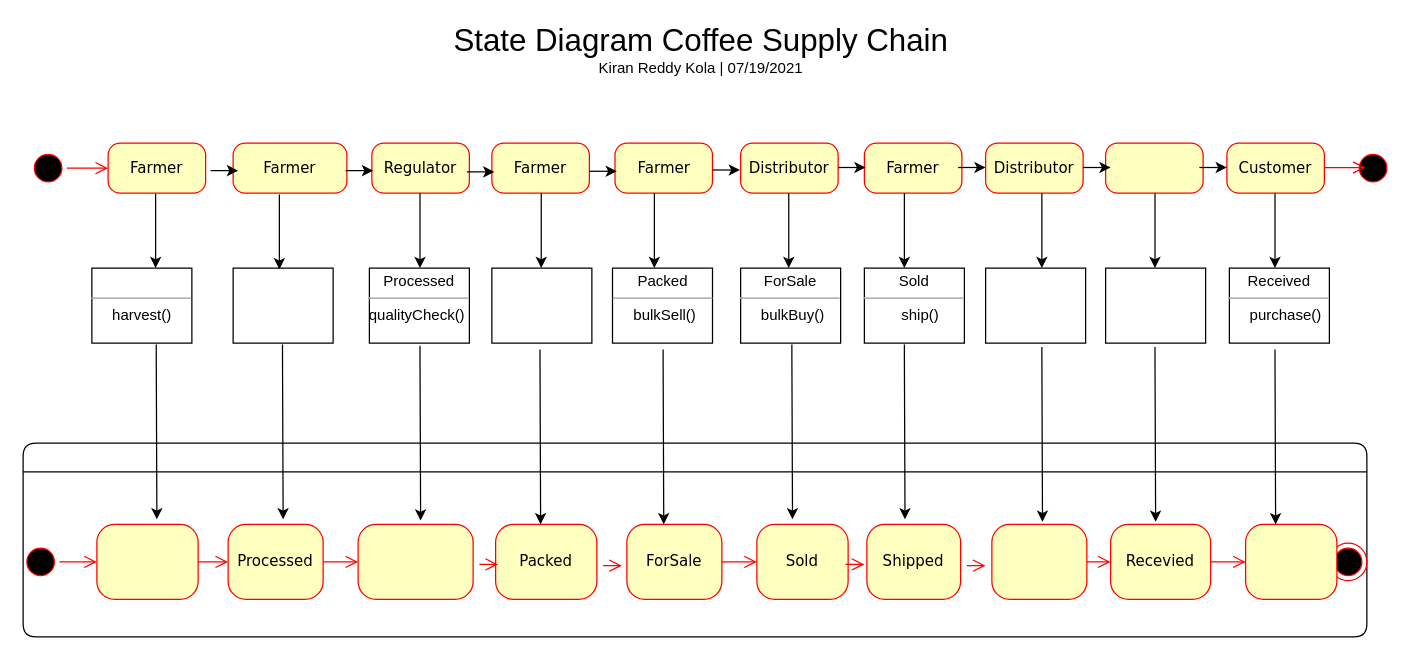
Image size: 1414x659. Some labels were removed from this diagram. Each missing label, with the box of its shape:
Coffee State: (22, 442, 1367, 637)
Distributed: (991, 523, 1087, 599)
Distributed receives(): (1104, 267, 1206, 343)
Harvested: (96, 523, 198, 599)
Harvested process(): (232, 267, 333, 343)
Purchased: (1244, 523, 1337, 599)
QA Approved: (357, 523, 473, 599)
QA Approved bulkPack(): (491, 267, 592, 343)
Retailer: (1104, 142, 1203, 193)
Shipped distribute(): (984, 267, 1086, 343)
